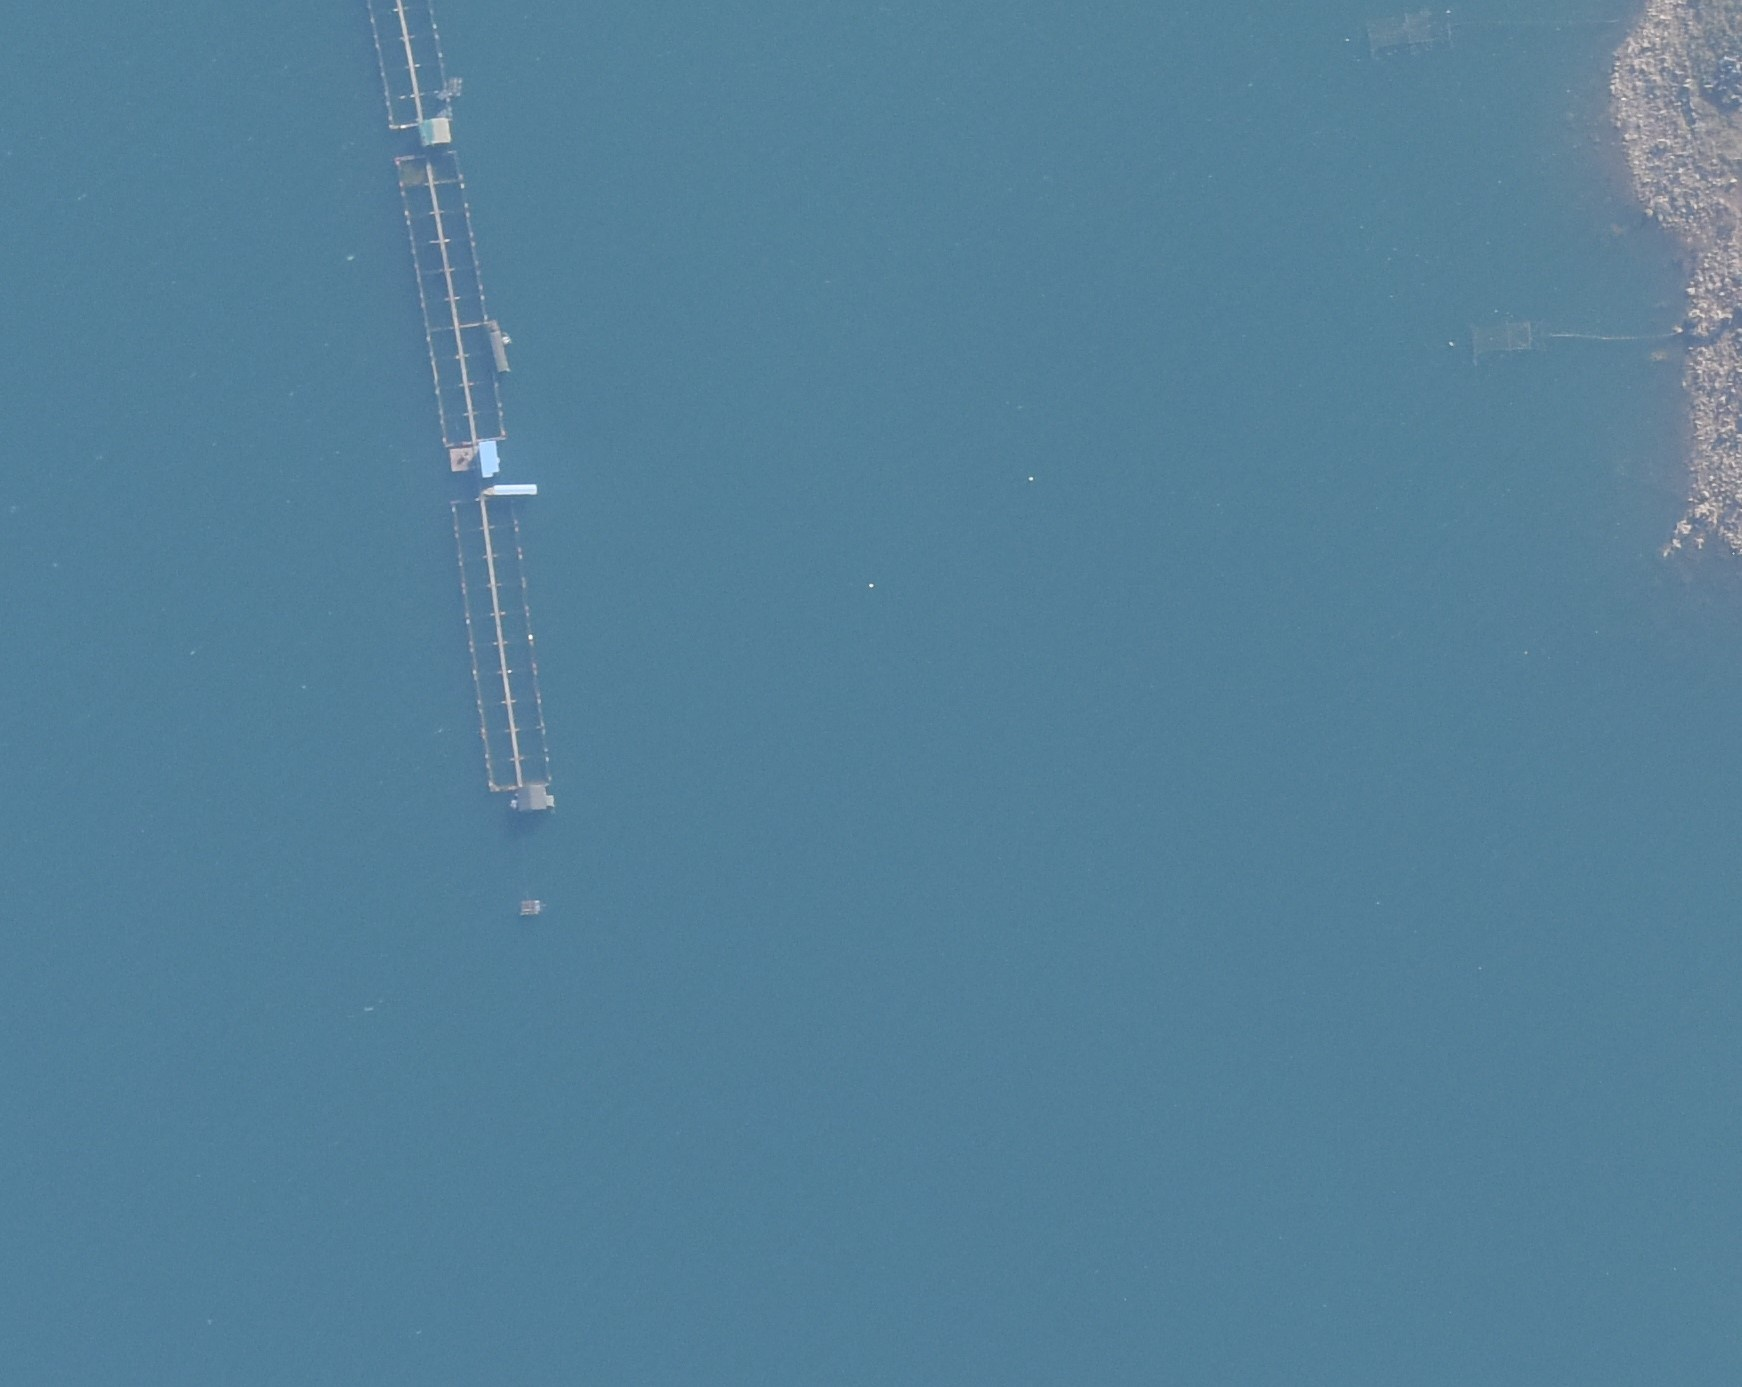cultivation-mesh-cage: (398, 151, 508, 444), (453, 500, 556, 793), (369, 1, 454, 132), (1361, 4, 1460, 57), (1467, 318, 1540, 364)
prefabricated-house: (485, 317, 512, 375), (417, 115, 451, 147), (517, 784, 550, 811), (451, 444, 478, 473), (481, 440, 500, 478)
ship: (485, 484, 535, 497)
